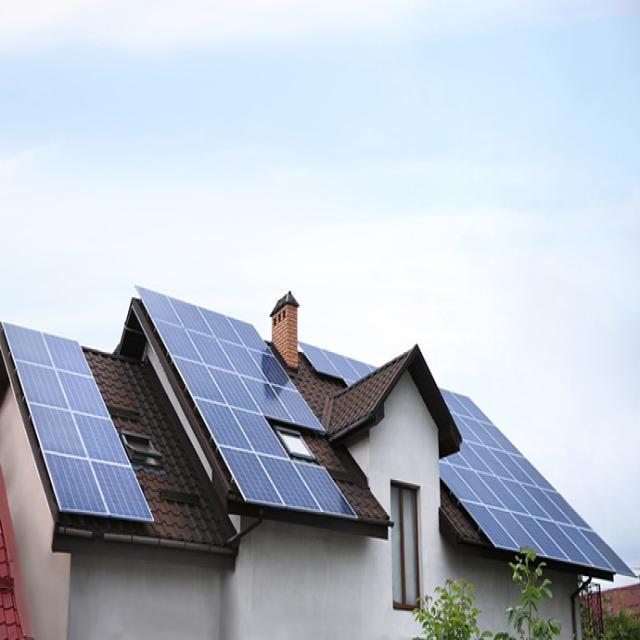clean-solar-panel: (138, 288, 356, 516), (440, 391, 631, 575), (4, 322, 152, 519)
